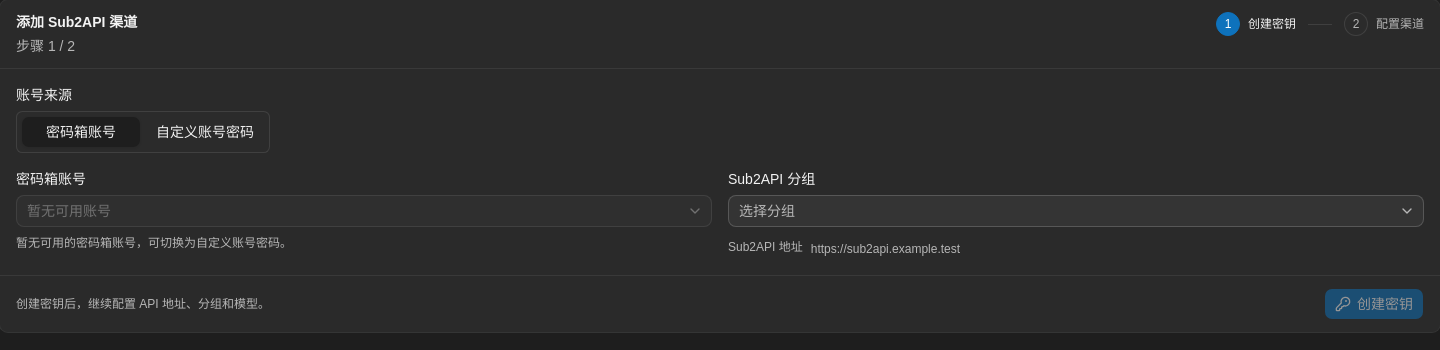
Test case: 创建渠道选择本地分组时使用字典顺序且不补入未登记分组
Click the dropdown named "Sub2API 分组". click: (767, 211)
box: [728, 195, 1424, 227]
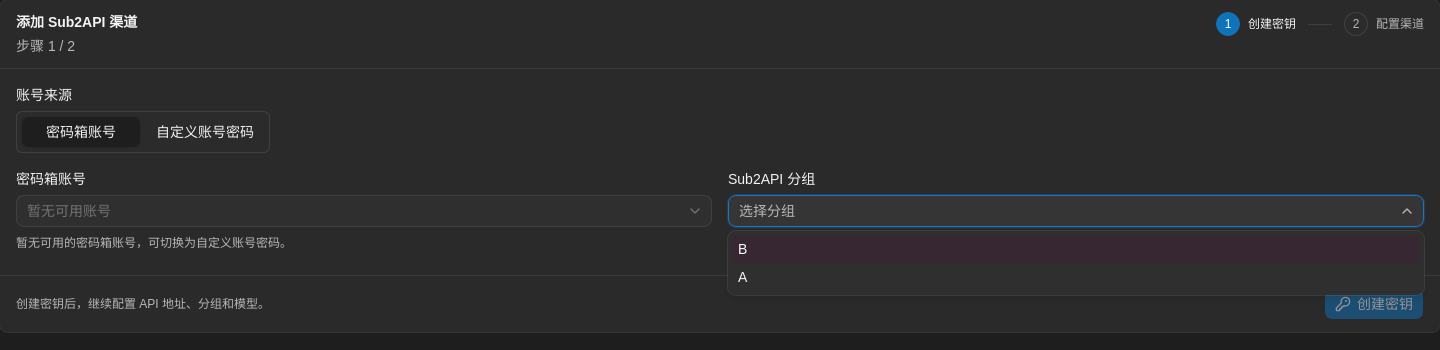
Now the options read "B", "A", in this order, box [732, 235, 1420, 263]; [738, 269, 747, 285]
